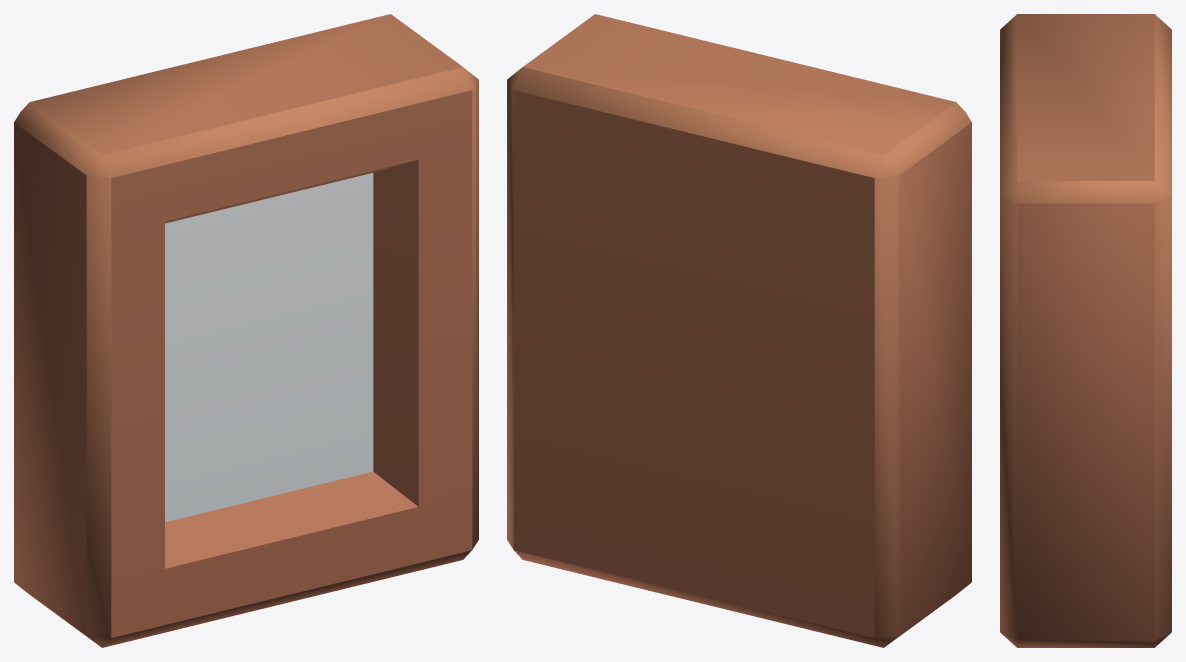
The model's file is pictureframe_small_a.glb.
3 renders of one model, left to right at view 1: azimuth 30°, elevation 25°; view 2: azimuth 150°, elevation 25°; view 3: azimuth 270°, elevation 25°, orthographic. The views are drawn at different scales.
Parts seen in each view (by area): view 1: pictureframe_small_A; view 2: pictureframe_small_A; view 3: pictureframe_small_A.
Boxes of the visible parts, <box> form: pictureframe_small_A: <box>14,14,478,647</box>; pictureframe_small_A: <box>507,14,971,647</box>; pictureframe_small_A: <box>1000,14,1171,647</box>.
Bounding box in the file's own units: 0.35 × 0.42 × 0.14.
Materials: 1 (1 with a texture image).
